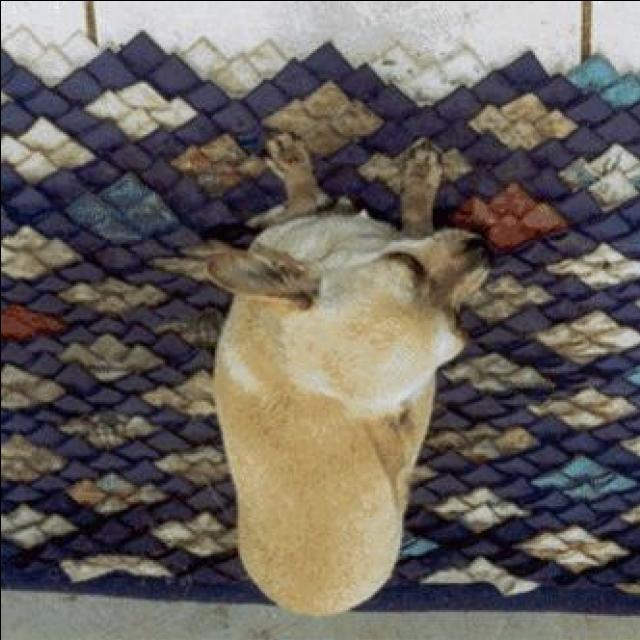chihuahua: (202, 127, 490, 617)
